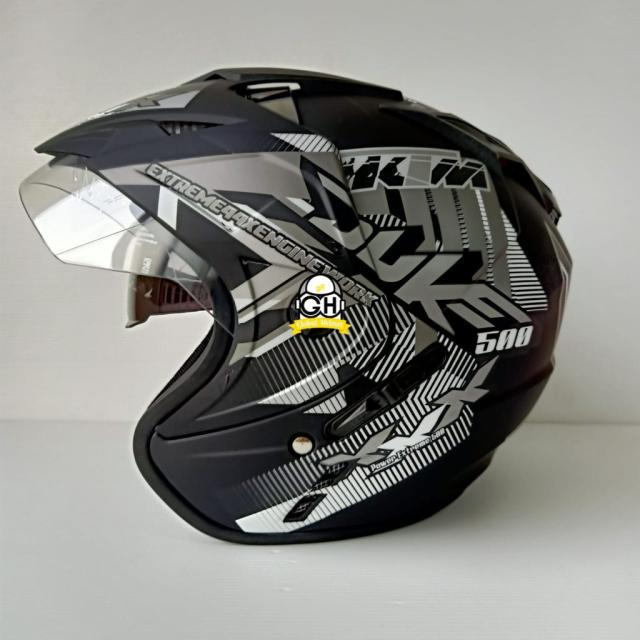Helm: (18, 56, 577, 562)
